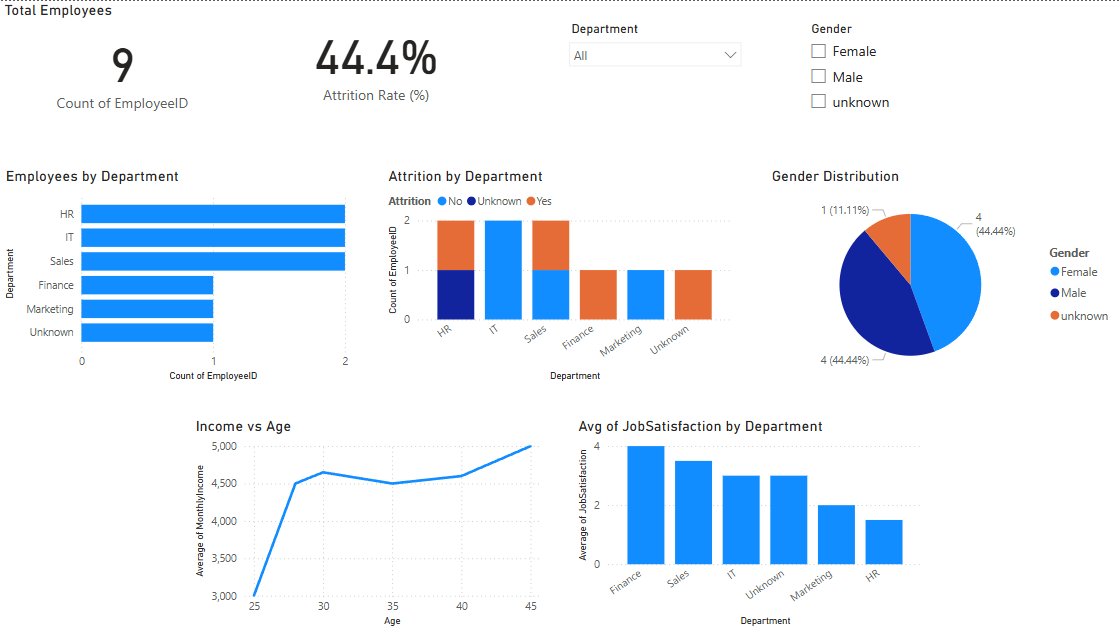

The page's visual inventory and layout, read from the dashboard file:
{"tool":"powerbi","page":{"name":"Page 1","canvas":[1280,720],"ordinal":0},"visuals":[{"type":"card","title":"Total Employees","fields":{"Values":["CountNonNull(messy_hr_data.EmployeeID)"]},"box":[0,0,280,137],"z":0},{"type":"card","fields":{"Values":["messy_hr_data.Attrition Rate (%)"]},"box":[289.8,0,280,137],"z":1000},{"type":"barChart","title":"Employees by Department","fields":{"Y":["CountNonNull(messy_hr_data.EmployeeID)"],"Category":["messy_hr_data.Department"]},"box":[0.9,190.1,402,250],"z":1001},{"type":"columnChart","title":"Attrition by Department","fields":{"Category":["messy_hr_data.Department"],"Y":["CountNonNull(messy_hr_data.EmployeeID)"],"Series":["messy_hr_data.Attrition"]},"box":[437.9,190.1,403,250],"z":1002},{"type":"pieChart","title":"Gender Distribution","fields":{"Category":["messy_hr_data.Gender"],"Y":["CountNonNull(messy_hr_data.EmployeeID)"]},"box":[876.9,190.1,404,250],"z":1003},{"type":"lineChart","title":"Income vs Age","fields":{"Category":["messy_hr_data.Age"],"Y":["Avg(messy_hr_data.MonthlyIncome)"]},"box":[218,476,403,244],"z":1004},{"type":"columnChart","title":"Avg of JobSatisfaction by Department","fields":{"Category":["messy_hr_data.Department"],"Y":["Avg(messy_hr_data.JobSatisfaction)"]},"box":[656,476,404,244],"z":1005},{"type":"slicer","fields":{"Values":["messy_hr_data.Department"]},"box":[640,18.6,217.1,124.3],"z":1006},{"type":"slicer","fields":{"Values":["messy_hr_data.Gender"]},"box":[914.3,18.6,217.1,124.3],"z":1007}]}

Visuals, with their boxes in screenshot pixels (x1, y1, x2, y2), scaled from the page's 1280x720 canvas onto the 1120x630 screenshot:
"Total Employees" card: (left=0, top=0, right=245, bottom=120)
card - messy_hr_data.Attrition Rate (%): (left=254, top=0, right=499, bottom=120)
"Employees by Department" barChart: (left=1, top=166, right=353, bottom=385)
"Attrition by Department" columnChart: (left=383, top=166, right=736, bottom=385)
"Gender Distribution" pieChart: (left=767, top=166, right=1119, bottom=385)
"Income vs Age" lineChart: (left=191, top=416, right=543, bottom=629)
"Avg of JobSatisfaction by Department" columnChart: (left=574, top=416, right=928, bottom=629)
slicer - messy_hr_data.Department: (left=560, top=16, right=750, bottom=125)
slicer - messy_hr_data.Gender: (left=800, top=16, right=990, bottom=125)
